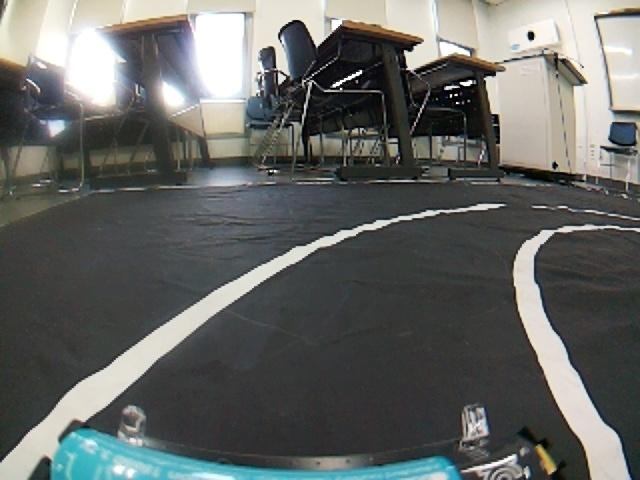right: (3, 205, 640, 479)
